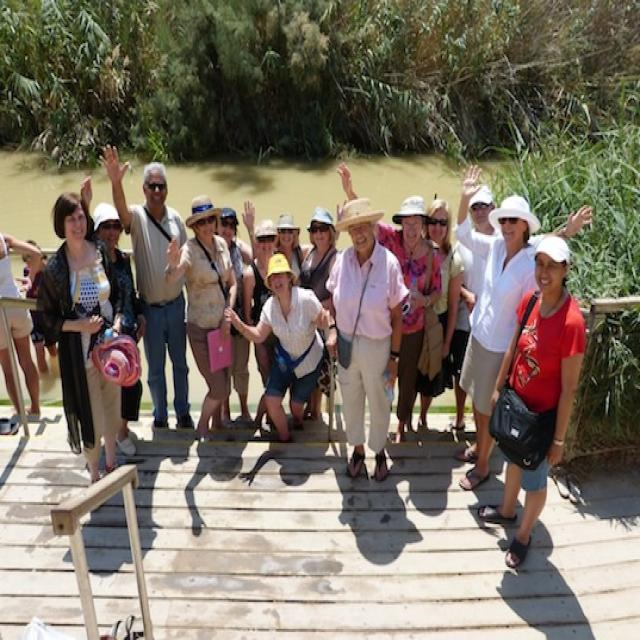body: (452, 161, 594, 489), (474, 228, 586, 568), (334, 159, 443, 438), (96, 140, 196, 435), (32, 188, 125, 480), (325, 197, 410, 484), (222, 251, 337, 446), (473, 467, 596, 638), (76, 173, 148, 456), (161, 192, 238, 446), (331, 432, 464, 572), (183, 427, 329, 537), (70, 437, 174, 583), (448, 182, 498, 436), (413, 198, 462, 434), (214, 197, 258, 432), (298, 205, 340, 424), (0, 228, 43, 426), (241, 217, 280, 394), (21, 238, 58, 376), (299, 203, 342, 319), (0, 429, 30, 502)
